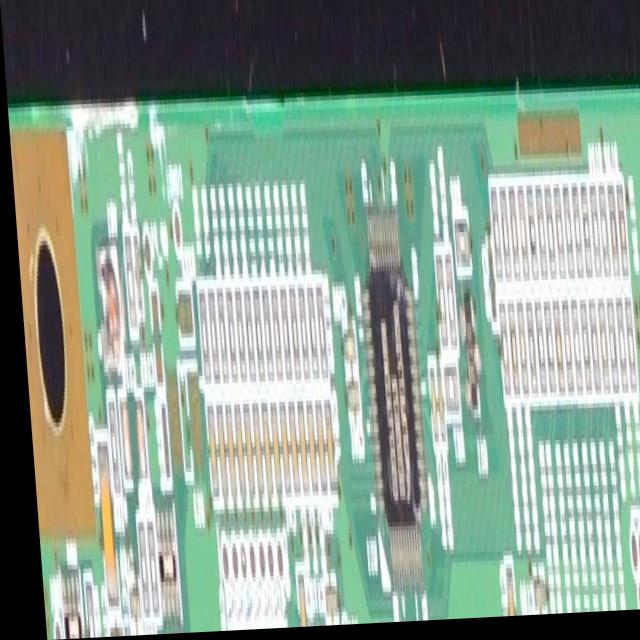IC: (350, 211, 426, 592)
capacitor: (87, 425, 112, 612), (110, 388, 142, 489), (306, 396, 323, 507), (288, 395, 304, 512), (143, 284, 160, 393), (262, 394, 277, 509), (198, 400, 213, 512), (280, 393, 294, 509), (226, 395, 240, 511), (271, 395, 285, 509), (208, 397, 222, 511), (253, 398, 267, 510), (244, 399, 258, 510), (217, 397, 231, 507), (235, 402, 249, 510), (317, 400, 331, 507), (298, 396, 311, 503), (422, 359, 434, 464), (127, 225, 140, 320), (429, 357, 439, 455), (482, 242, 492, 335), (337, 324, 353, 376), (521, 573, 536, 620), (496, 565, 507, 621), (287, 573, 297, 630), (340, 381, 354, 420), (316, 591, 328, 620), (98, 624, 115, 637)
resistor: (118, 221, 134, 342), (136, 513, 153, 623), (611, 177, 627, 287), (548, 177, 563, 294), (591, 289, 606, 405), (99, 390, 115, 498), (563, 295, 578, 410), (428, 248, 444, 355), (556, 182, 572, 289), (127, 513, 142, 627), (501, 299, 516, 413), (581, 291, 596, 405), (521, 181, 536, 295), (617, 293, 633, 399), (491, 296, 506, 409), (503, 180, 518, 291), (572, 291, 587, 401), (602, 182, 617, 292), (494, 182, 509, 292), (485, 182, 500, 292), (519, 299, 534, 408), (210, 283, 225, 390), (201, 283, 216, 390), (583, 181, 598, 288), (566, 183, 581, 289), (555, 299, 569, 411), (600, 292, 614, 404), (536, 296, 550, 407), (192, 279, 207, 382), (539, 182, 554, 285), (609, 294, 623, 404), (545, 300, 560, 402), (220, 287, 235, 389), (513, 179, 526, 295), (593, 185, 607, 288), (171, 280, 191, 352), (257, 285, 270, 393), (576, 182, 589, 288), (531, 182, 544, 286), (510, 301, 523, 404), (229, 286, 242, 389), (449, 211, 468, 281), (247, 286, 260, 388), (529, 294, 541, 403), (440, 246, 452, 355), (238, 289, 251, 389), (265, 289, 278, 388), (301, 288, 314, 386), (283, 289, 295, 391), (310, 288, 323, 382), (435, 363, 454, 424), (274, 288, 286, 383), (292, 289, 304, 382), (75, 577, 86, 638), (118, 581, 133, 624), (120, 632, 133, 637)
transistor: (458, 297, 473, 410)
